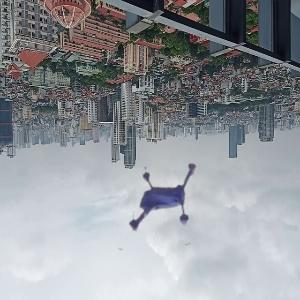drone: (110, 162, 209, 261)
